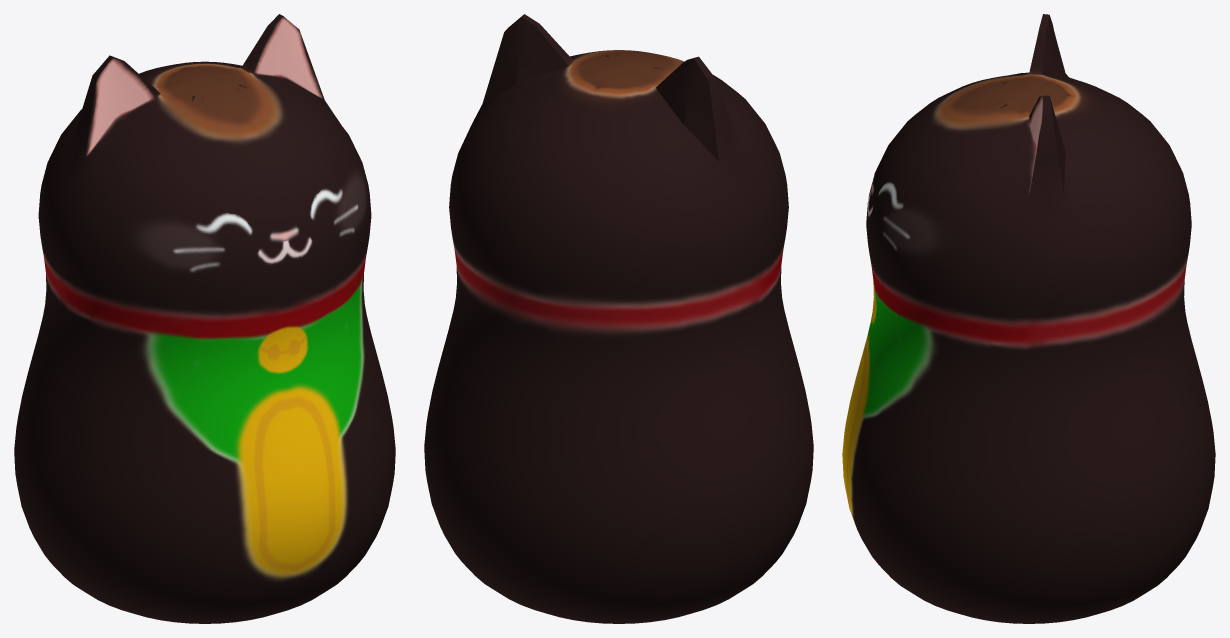
The model's file is brown_manekineko.fbx.
3 renders of one model, left to right at view 1: azimuth 30°, elevation 25°; view 2: azimuth 150°, elevation 25°; view 3: azimuth 270°, elevation 25°, orthographic. The views are drawn at different scales.
Parts seen in each view (by area): view 1: chat marron; view 2: chat marron; view 3: chat marron.
Part boxes in pixels (x1,y1,x2,y2): chat marron: (14,14,395,623); chat marron: (424,14,813,623); chat marron: (842,14,1215,623).
Bounding box in the file's own units: 194 × 313 × 194.
Materials: 1 (1 with a texture image).
